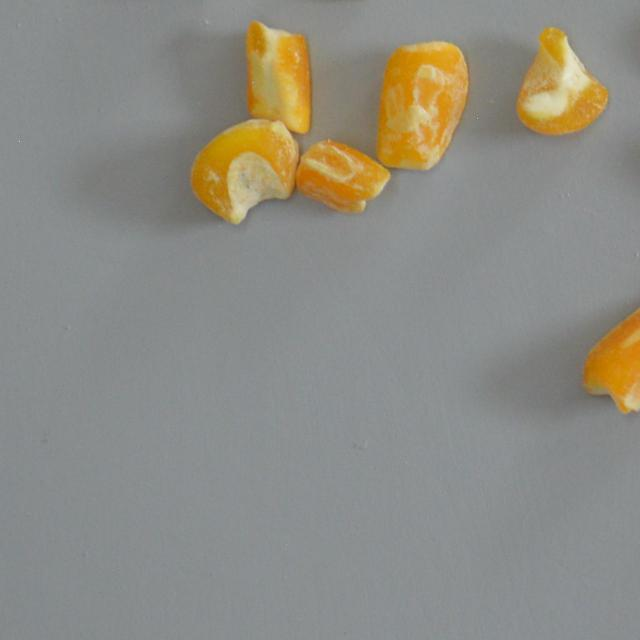estandar: (243, 18, 312, 136)
pelicula: (376, 38, 468, 170), (516, 24, 608, 136), (582, 292, 640, 414), (295, 140, 391, 212)
punto_negro: (186, 118, 300, 224)
